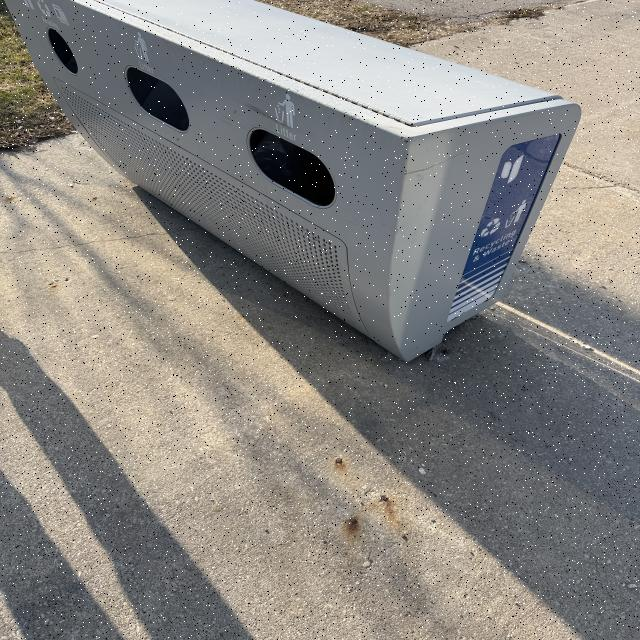Dustbin: (0, 1, 582, 364)
